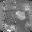people: (15, 11, 26, 21)
